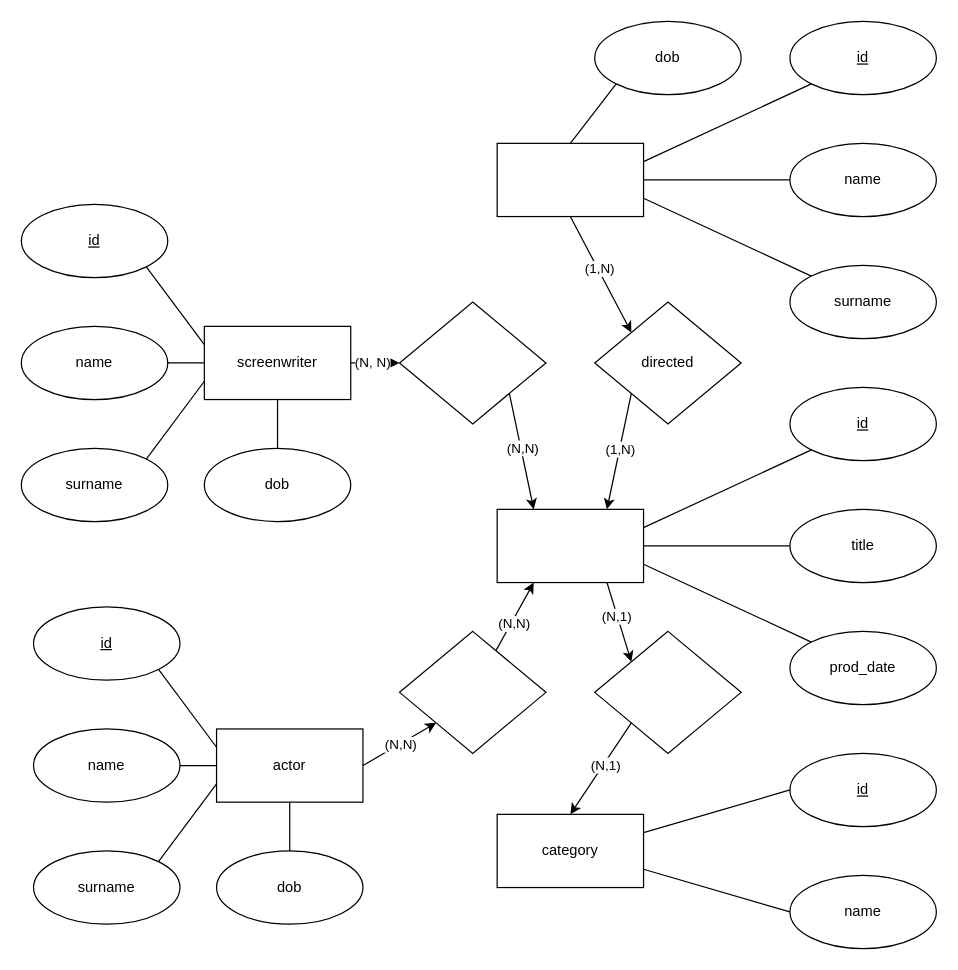
Some shapes in this 958 by 970 pixel diagram are drawn without their labels. Each missing label, with the centre of its shape:
"belongs to" goes at (x=667, y=691).
"director" goes at (x=570, y=179).
"movie" goes at (x=570, y=545).
"played on" goes at (x=472, y=691).
"wrote" goes at (x=472, y=362).
